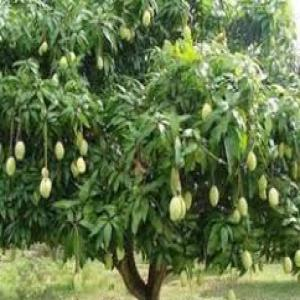Tree: (1, 4, 299, 290)
